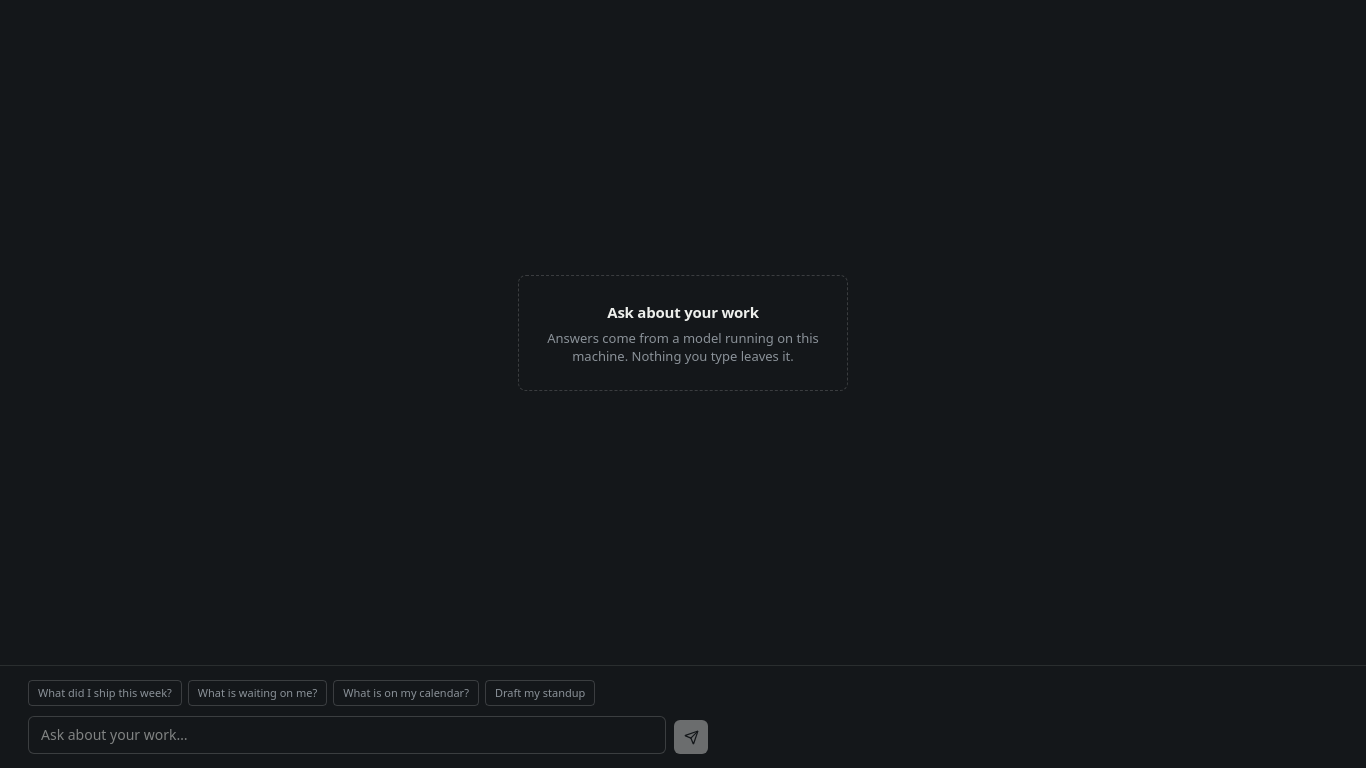
Test: ChatView › ignores updates belonging to another question
This screenshot has width=1366, height=768.
In the text box named "Message your chief of staff": (347, 735) left=28, top=716, right=666, bottom=754, type "What did I ship?"
Then press Enter
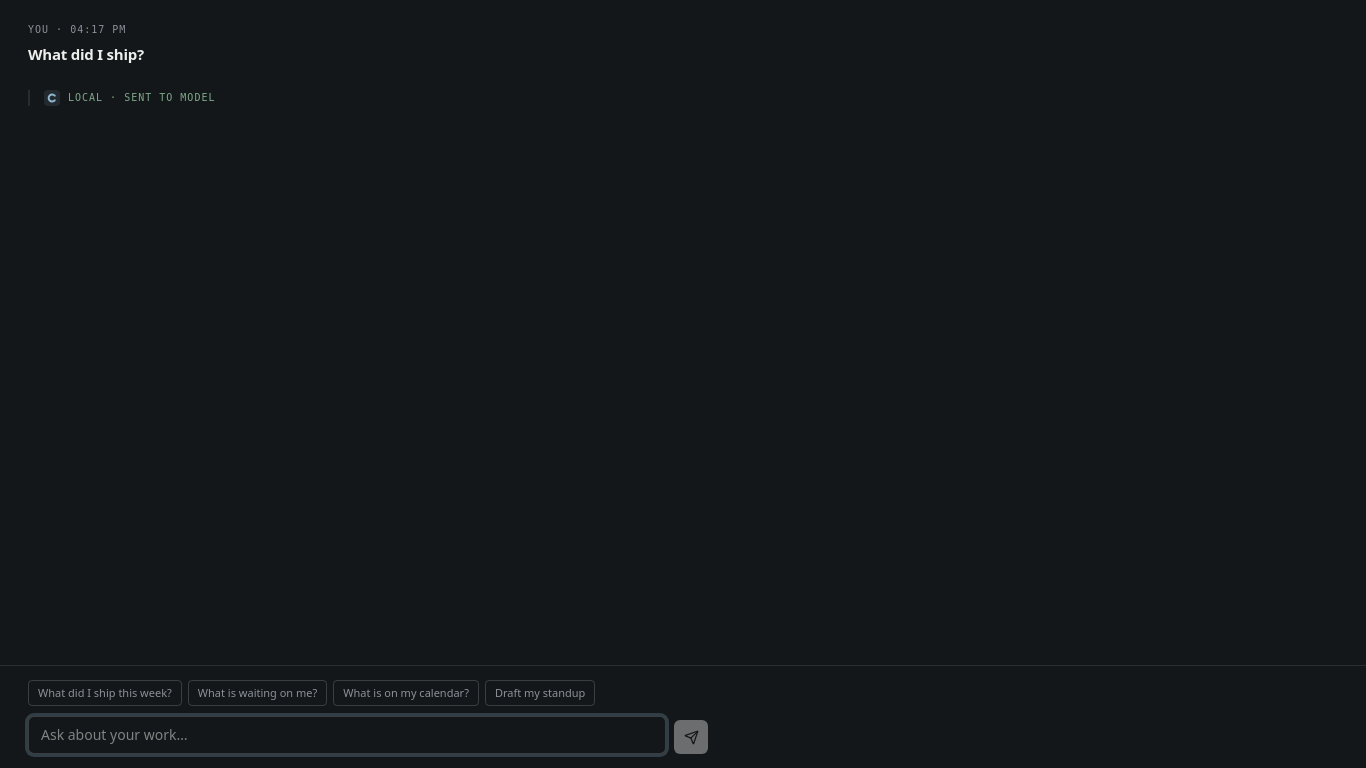
Expected: the message reads "local · Sent to model", left=44, top=90, right=216, bottom=106
